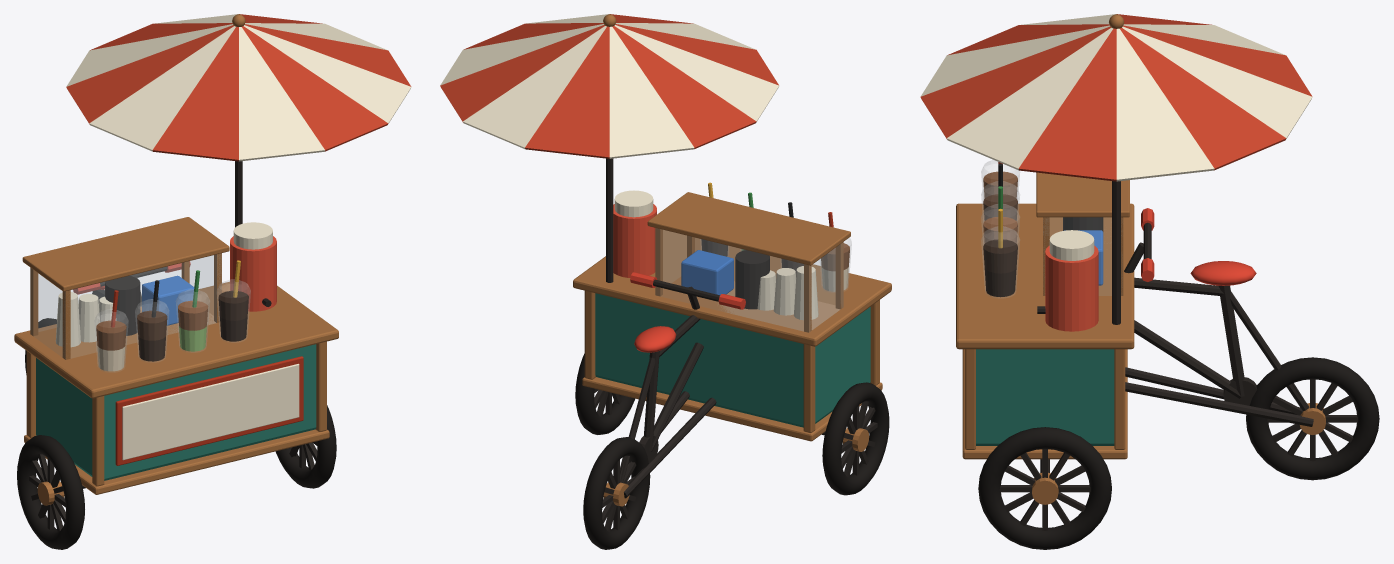
The model's file is gerobak-t1-v2.glb.
3 renders of one model, left to right at view 1: azimuth 30°, elevation 25°; view 2: azimuth 150°, elevation 25°; view 3: azimuth 270°, elevation 25°, orthographic. The views are drawn at different scales.
Visible parts, largest first — view 1: gerobak_t1_v2; view 2: gerobak_t1_v2; view 3: gerobak_t1_v2.
Part boxes in pixels (x1,y1,x2,y2): gerobak_t1_v2: [14, 14, 411, 549]; gerobak_t1_v2: [440, 14, 891, 549]; gerobak_t1_v2: [920, 14, 1379, 549].
Size of the model in its own units: 2.22 by 2.56 by 2.06.
